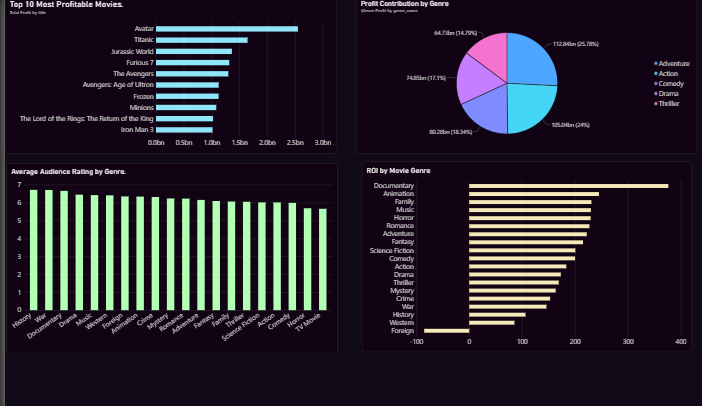

The page's visual inventory and layout, read from the dashboard file:
{"tool":"powerbi","page":{"name":"Financial & Genre Intelligence.","canvas":[2500,1500],"ordinal":1},"visuals":[{"type":"clusteredBarChart","title":"Top 10 Most Profitable Movies.","fields":{"Category":["public dim_movie.title"],"Y":["public fact_movie_performance.Total Profit"]},"box":[0,0,1181.4,565.3],"z":0},{"type":"pieChart","title":"Profit Contribution by Genre","fields":{"Category":["public dim_genre.genre_name"],"Y":["public bridge_movie_company_model.\\Genre Profit"]},"box":[1251.3,0,1216.4,565.3],"z":1000},{"type":"clusteredBarChart","title":"ROI by Movie Genre","fields":{"Category":["public dim_genre.genre_name"],"Y":["public bridge_movie_company_model.Genre ROI %"]},"box":[1273.6,595.4,1175.1,679.6],"z":2000},{"type":"clusteredColumnChart","title":"Average Audience Rating by Genre.","fields":{"Category":["public dim_genre.genre_name"],"Y":["public bridge_movie_company_model.Genre Average Rating"]},"box":[3.2,598.6,1181.3,678.2],"z":3000}]}

Visuals, with their boxes on the page's 2500x1500 design canvas (x1, y1, x2, y2). These are canvas units, not pixel positions in the 702x406 screenshot, which may show the page scaled, cropped or inside an application window:
"Top 10 Most Profitable Movies." clusteredBarChart: crop(0, 0, 1181, 565)
"Profit Contribution by Genre" pieChart: crop(1251, 0, 2468, 565)
"ROI by Movie Genre" clusteredBarChart: crop(1274, 595, 2449, 1275)
"Average Audience Rating by Genre." clusteredColumnChart: crop(3, 599, 1184, 1277)
